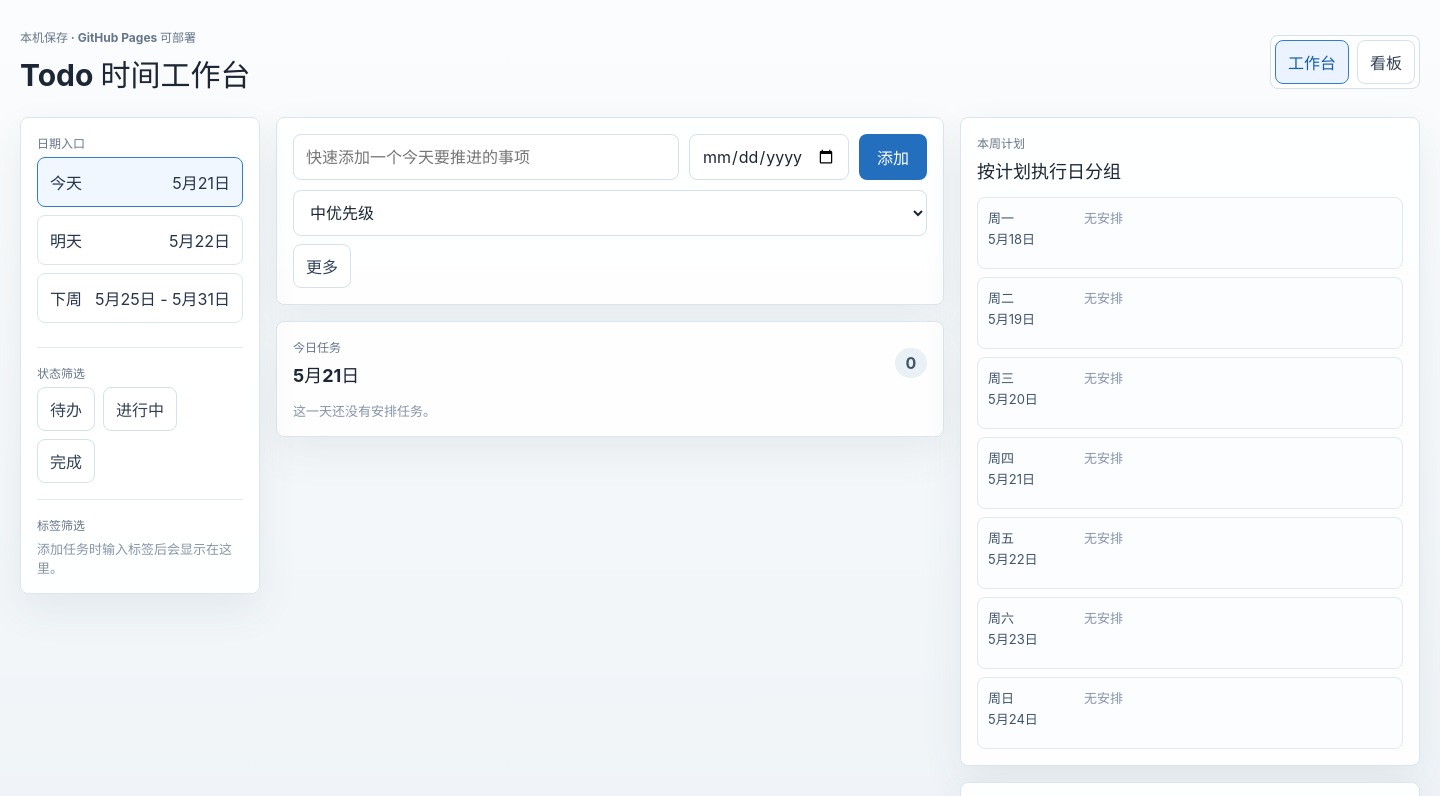
App workbench › switches next week entry to a seven-day range
Click the button "下周 5月25日 - 5月31日": {"x": 140, "y": 298} [37, 273, 243, 323]
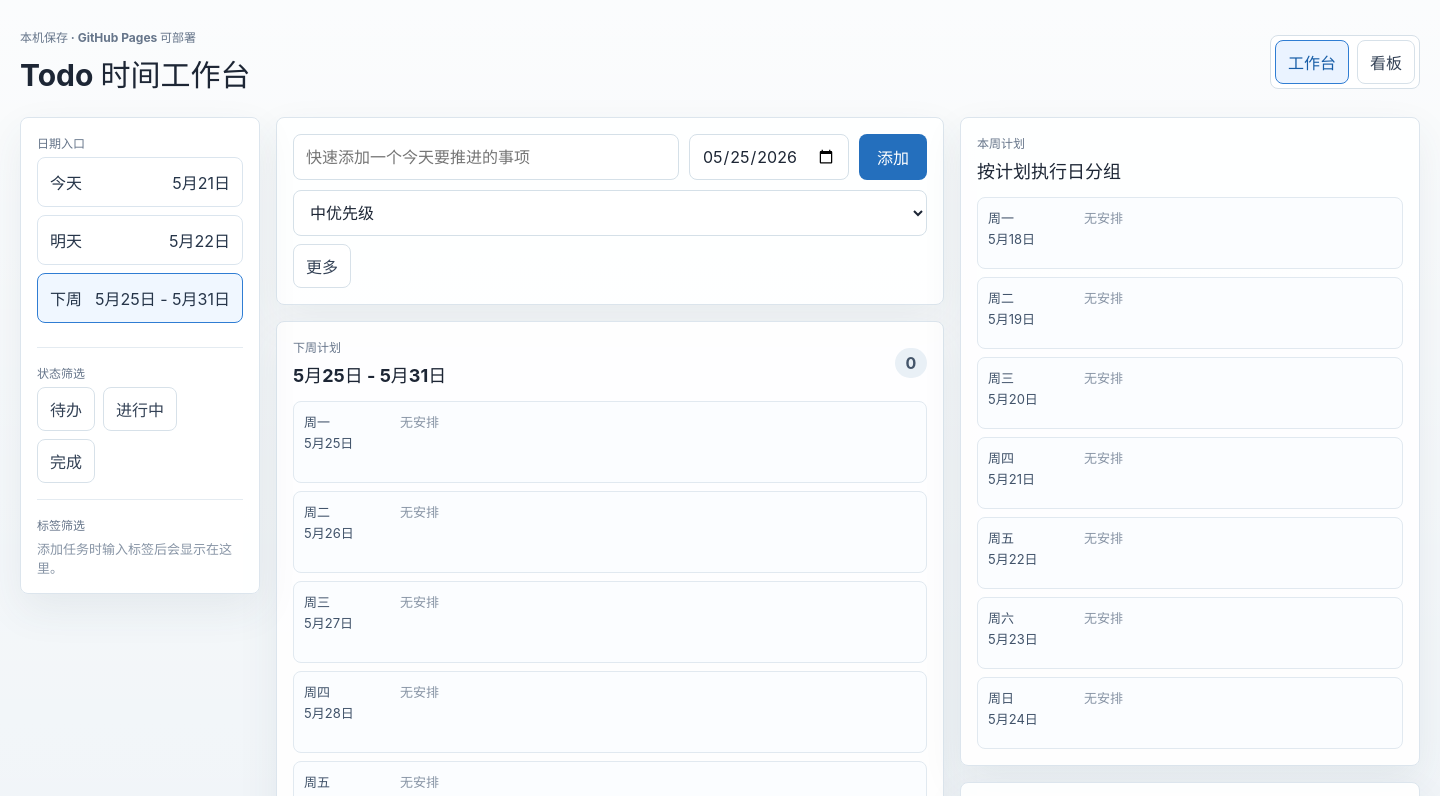
Expected: the date field with test id "quick-planned-date" holds "2026-05-25", [689, 134, 849, 180]
Expected: the text "下周计划" is shown, [293, 340, 341, 355]
Expected: the number of elements with test id "selected-range-day-row" is 7
In the field with test id "quick-title": {"x": 486, "y": 157} [293, 134, 679, 180], type "下周一计划"
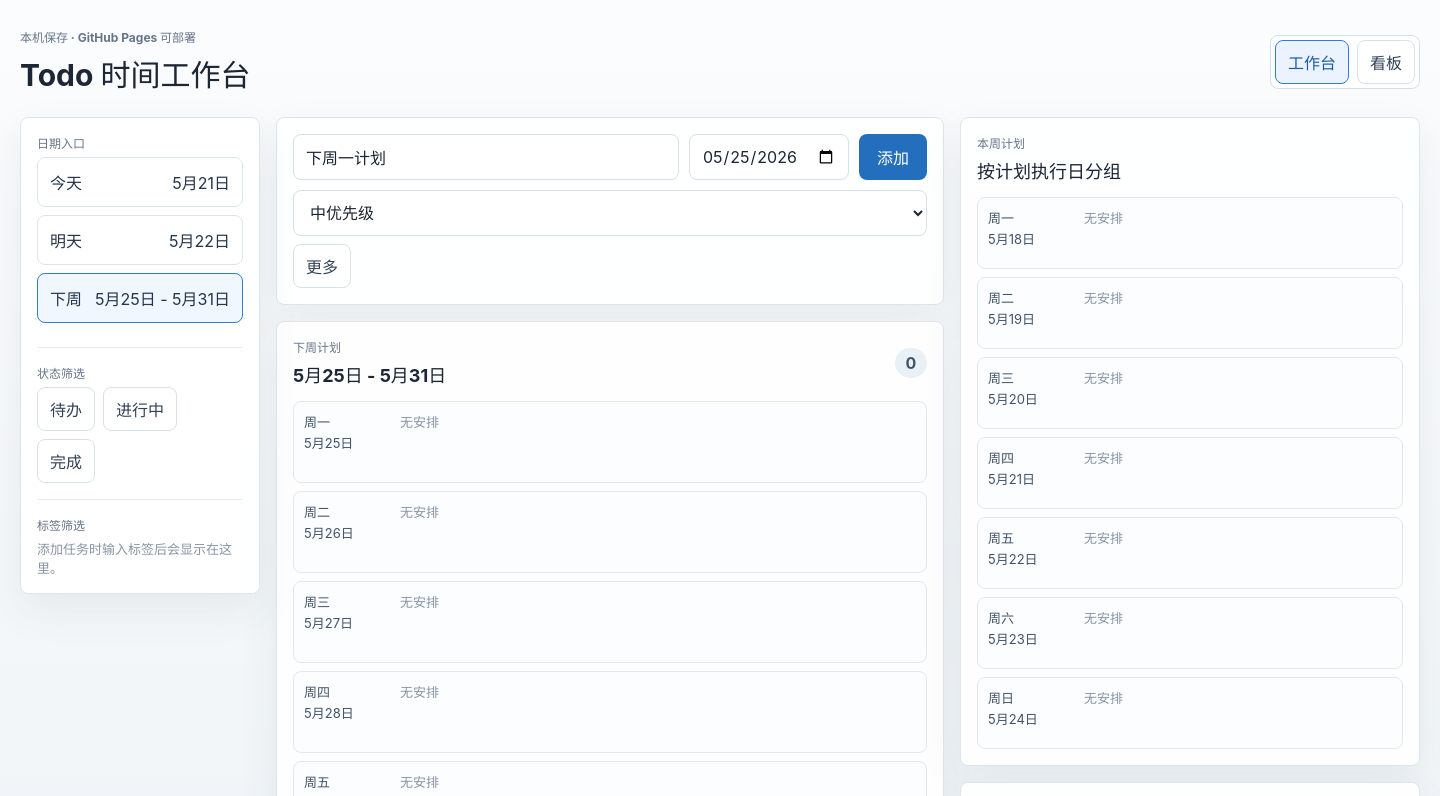
Submit the form with test id "quick-add", box [276, 117, 944, 305]
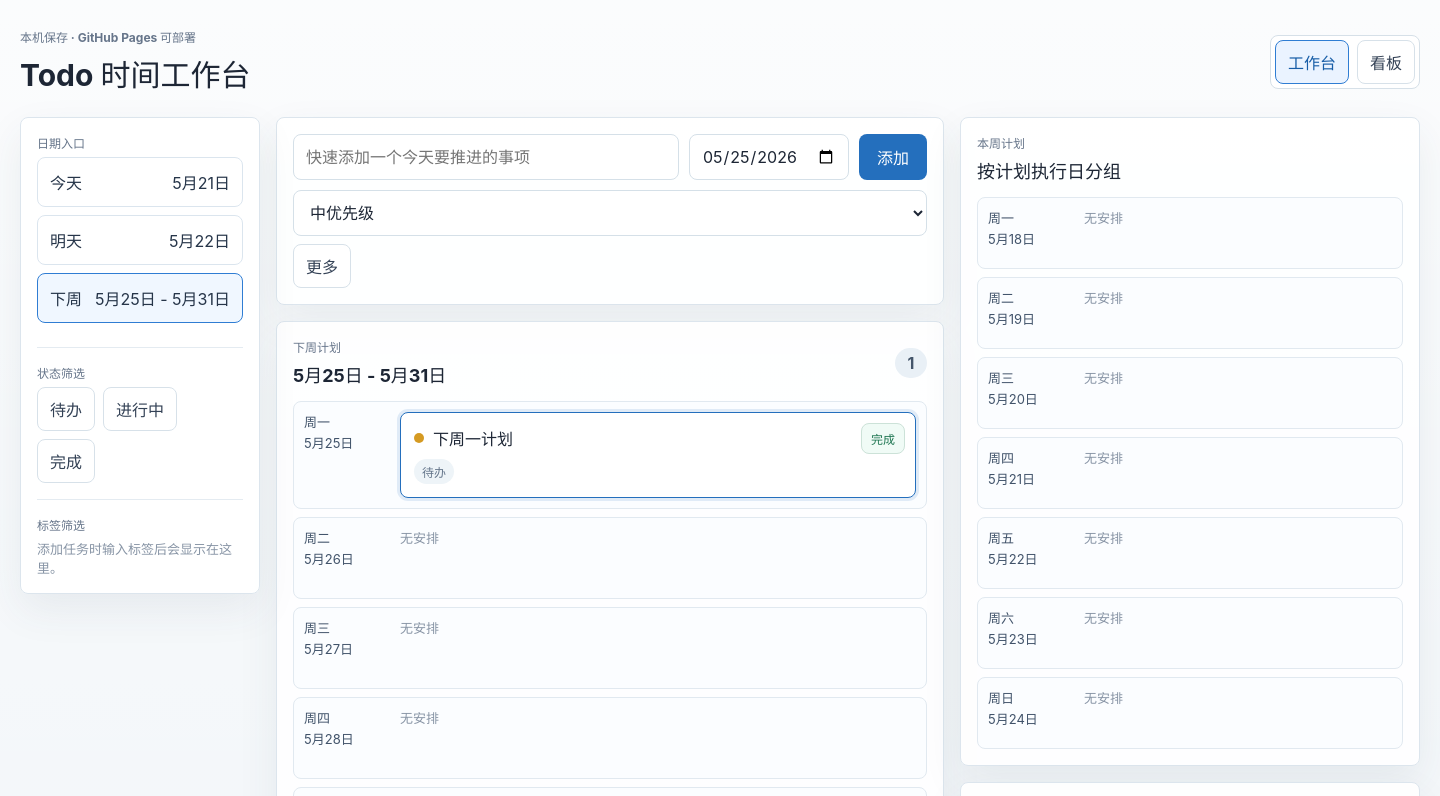
Expected: the element with test id "selected-range-day-row" shows "下周一计划", [433, 429, 513, 449]
